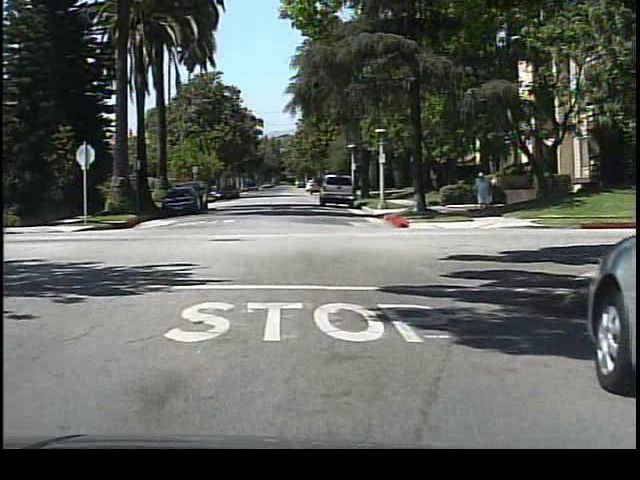person: (471, 167, 493, 216)
